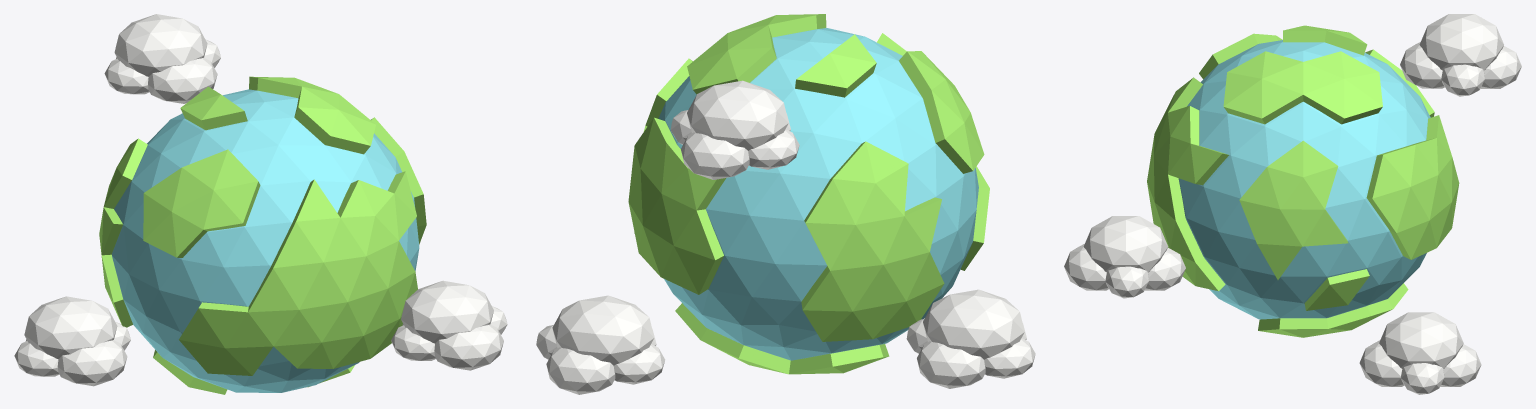
Rendered from cuteplanet.glb.
3 views of the same model, side by side, from view 1: azimuth 30°, elevation 25°; view 2: azimuth 150°, elevation 25°; view 3: azimuth 270°, elevation 25° (orthographic). The views are drawn at different scales.
Parts seen in each view (by area): view 1: Icosphere, Icosphere.001, Icosphere.009, Icosphere.021, Icosphere.015, Icosphere.010, Icosphere.022, Icosphere.016, Icosphere.017, Icosphere.013, Icosphere.023; view 2: Icosphere, Icosphere.001, Icosphere.003, Icosphere.009, Icosphere.015, Icosphere.002, Icosphere.014, Icosphere.008, Icosphere.017, Icosphere.013, Icosphere.005, Icosphere.019 (+2 smaller); view 3: Icosphere, Icosphere.001, Icosphere.003, Icosphere.015, Icosphere.021, Icosphere.022, Icosphere.016, Icosphere.004, Icosphere.007, Icosphere.019, Icosphere.025, Icosphere.014 (+2 smaller).
Part boxes in pixels (x1,y1,x2,y2): Icosphere: (99,76,426,394); Icosphere.001: (112,89,419,392); Icosphere.009: (24,296,117,358); Icosphere.021: (401,280,493,343); Icosphere.015: (114,14,207,76); Icosphere.010: (57,340,127,386); Icosphere.022: (434,324,503,370); Icosphere.016: (148,57,217,103); Icosphere.017: (104,58,149,94); Icosphere.013: (14,341,59,376); Icosphere.023: (391,325,435,360); Icosphere: (628,14,989,374); Icosphere.001: (658,28,978,360); Icosphere.003: (552,295,654,365); Icosphere.009: (923,289,1024,359); Icosphere.015: (687,80,788,150); Icosphere.002: (546,347,615,394); Icosphere.014: (681,132,749,179); Icosphere.008: (917,341,985,388); Icosphere.017: (748,129,799,169); Icosphere.013: (984,338,1035,378); Icosphere.005: (613,344,665,384); Icosphere.019: (670,110,691,144); Icosphere: (1147,25,1459,337); Icosphere.001: (1178,40,1430,319); Icosphere.003: (1379,312,1463,368); Icosphere.015: (1419,14,1503,70); Icosphere.021: (1083,216,1168,272); Icosphere.022: (1064,243,1108,290); Icosphere.016: (1400,42,1444,88); Icosphere.004: (1359,340,1404,386); Icosphere.007: (1401,363,1444,394); Icosphere.019: (1441,64,1484,96); Icosphere.025: (1105,266,1148,298); Icosphere.014: (1480,46,1521,88).
Size of the model in its own units: 3.23 by 2.4 by 3.33.
